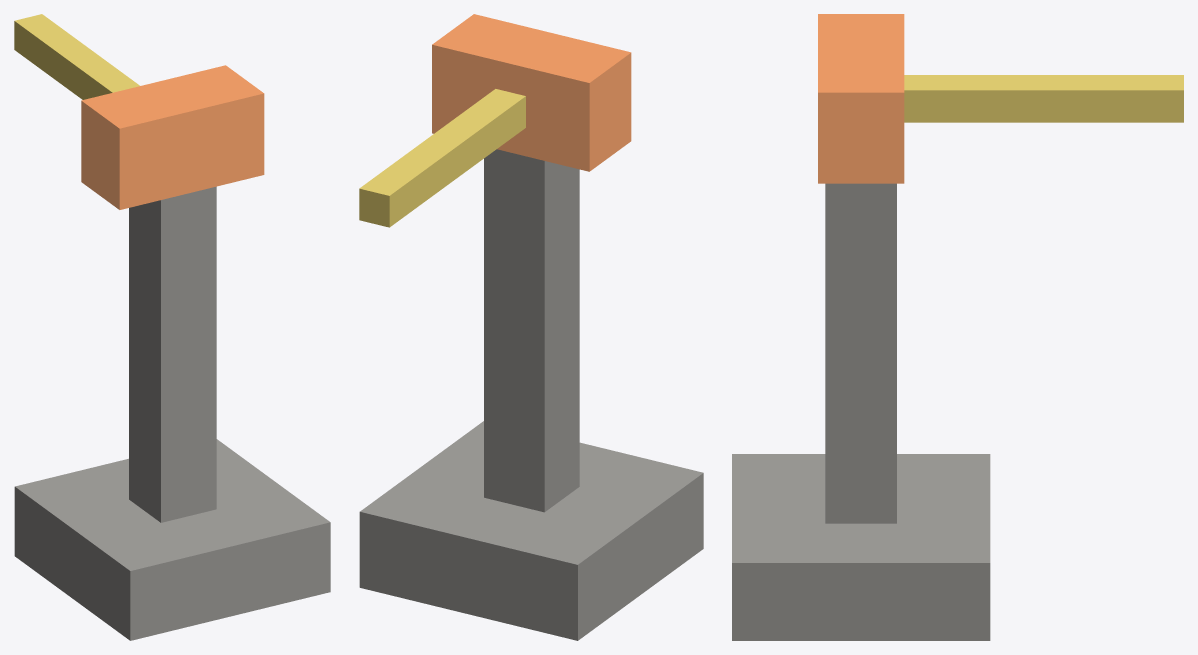
The model's file is build_cart_sensor.glb.
3 views of the same model, side by side, from view 1: azimuth 30°, elevation 25°; view 2: azimuth 150°, elevation 25°; view 3: azimuth 270°, elevation 25° (orthographic). The views are drawn at different scales.
Parts seen in each view (by area): view 1: Baked; view 2: Baked; view 3: Baked.
Boxes of the visible parts, <box> form: Baked: <box>14,14,330,640</box>; Baked: <box>359,14,703,640</box>; Baked: <box>732,14,1183,640</box>.
Bounding box in the file's own units: 0.36 × 0.82 × 0.63.
